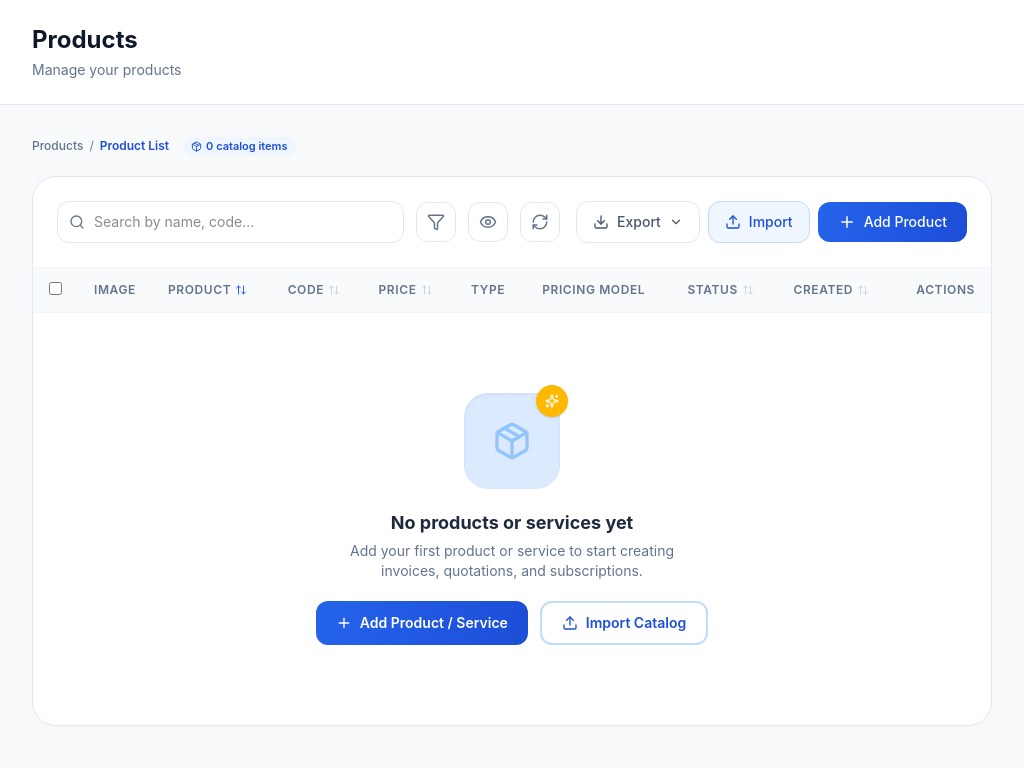
it: S. Products › Clear filters appears with a filter and restores the unfiltered list
Expected: the button named "Toggle filters" is shown, x1=416 y1=202 x2=456 y2=242
Type "widget" into the field. click: (231, 222)
box: x1=57 y1=201 x2=404 y2=243
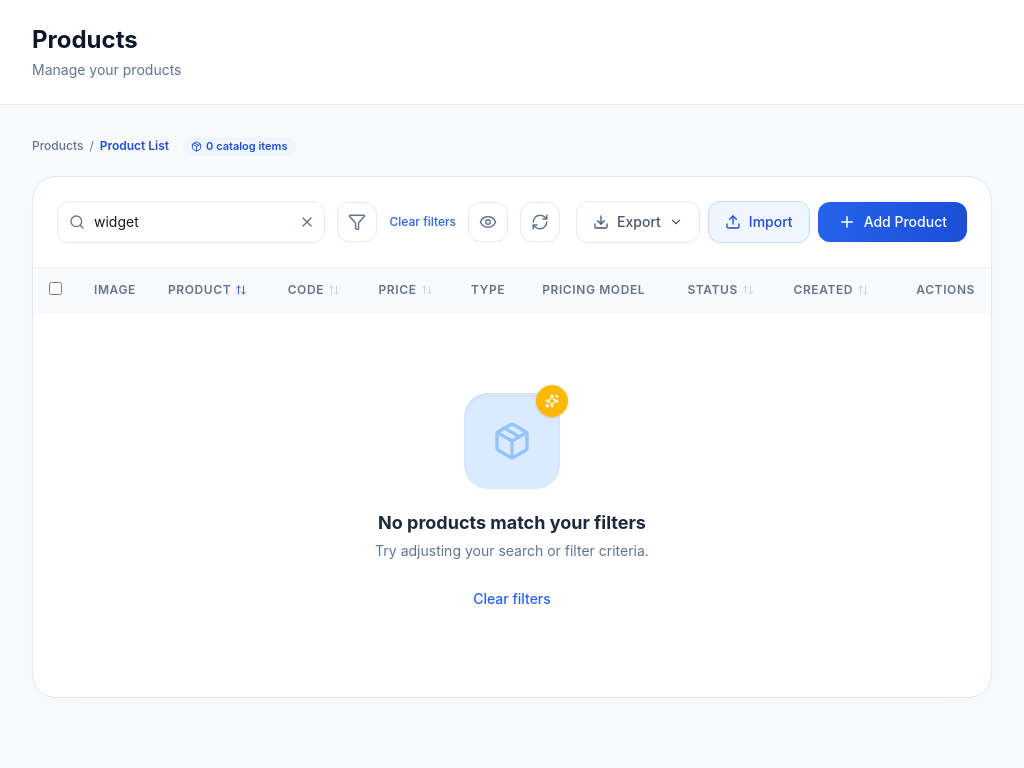
Expected: the 1st button "Clear filters" is shown
Expected: the heading "No products match your filters" is shown, x1=375 y1=509 x2=649 y2=537
Click the 1st button "Clear filters". click: (423, 222)
box: x1=390 y1=214 x2=456 y2=230
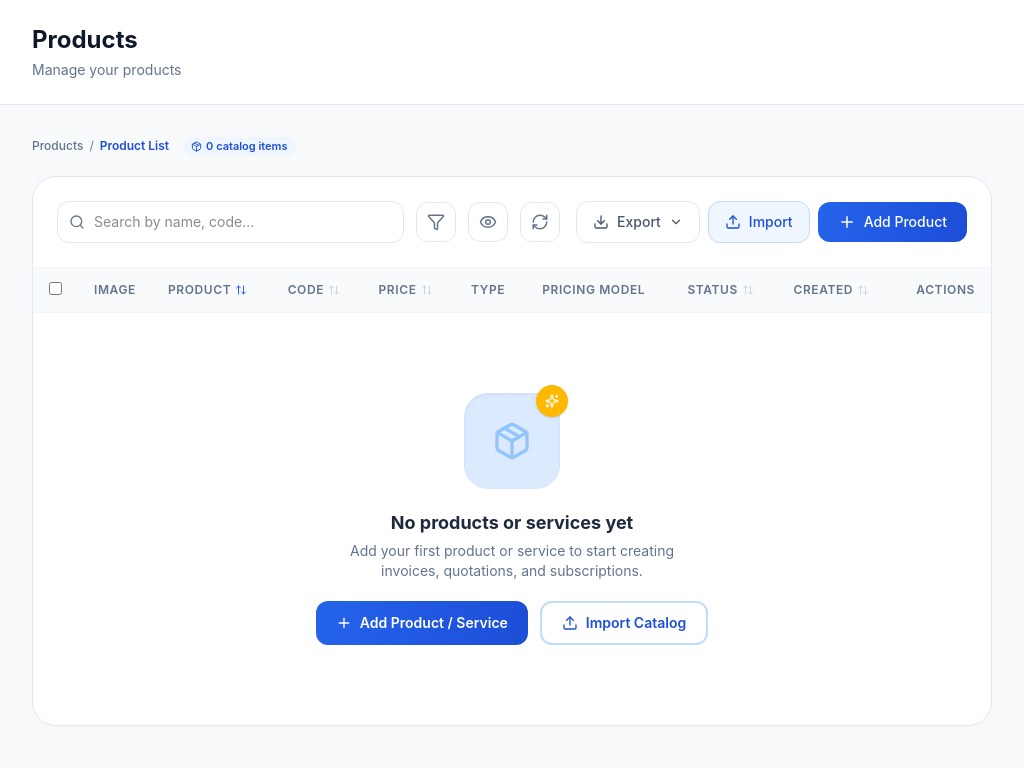
Expected: the heading "No products or services yet" is shown, x1=391 y1=512 x2=633 y2=533
